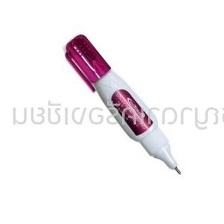correction_fluid: (61, 30, 184, 177)
